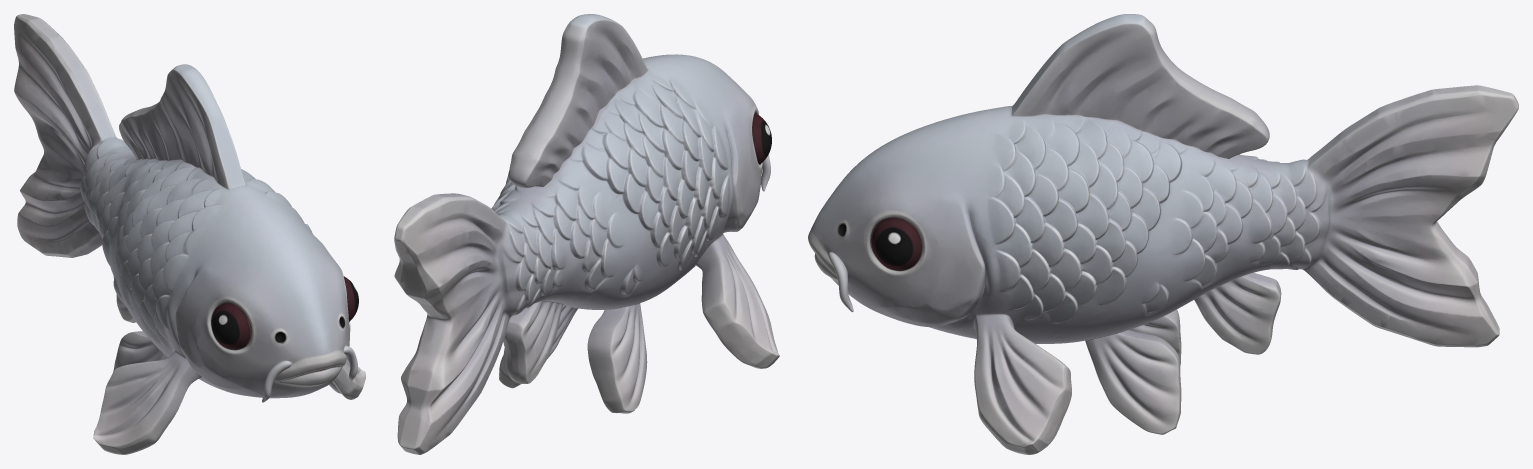
File: selected.glb
3 views of the same model, side by side, from view 1: azimuth 30°, elevation 25°; view 2: azimuth 150°, elevation 25°; view 3: azimuth 270°, elevation 25° (orthographic). The views are drawn at different scales.
Visible parts, largest first — view 1: Purachina_TextureSource; view 2: Purachina_TextureSource; view 3: Purachina_TextureSource.
Part boxes in pixels (x1,y1,x2,y2): Purachina_TextureSource: [14, 14, 365, 454]; Purachina_TextureSource: [394, 14, 779, 454]; Purachina_TextureSource: [808, 14, 1518, 454].
Size of the model in its own units: 0.5077 by 0.6029 by 1.
Materials: 1 (1 with a texture image).
